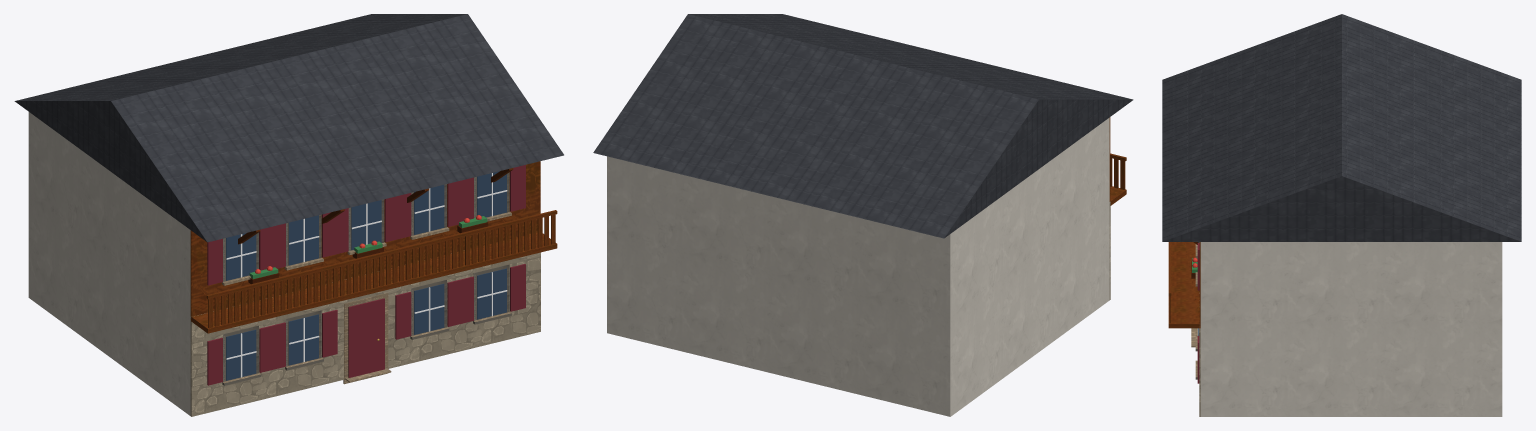
File: chale_w12_2.gltf
3 renders of one model, left to right at view 1: azimuth 30°, elevation 25°; view 2: azimuth 150°, elevation 25°; view 3: azimuth 270°, elevation 25°, orthographic. The views are drawn at different scales.
Parts seen in each view (by area): view 1: chale_w12_2; view 2: chale_w12_2; view 3: chale_w12_2.
Boxes of the visible parts, x1,y1,x2,y2 form: chale_w12_2: (14,14,563,416); chale_w12_2: (593,14,1133,416); chale_w12_2: (1162,14,1521,416).
Size of what is drawn, in the model's own units: 11.96 by 8.48 by 11.2.
Materials: 8 (5 with a texture image).
